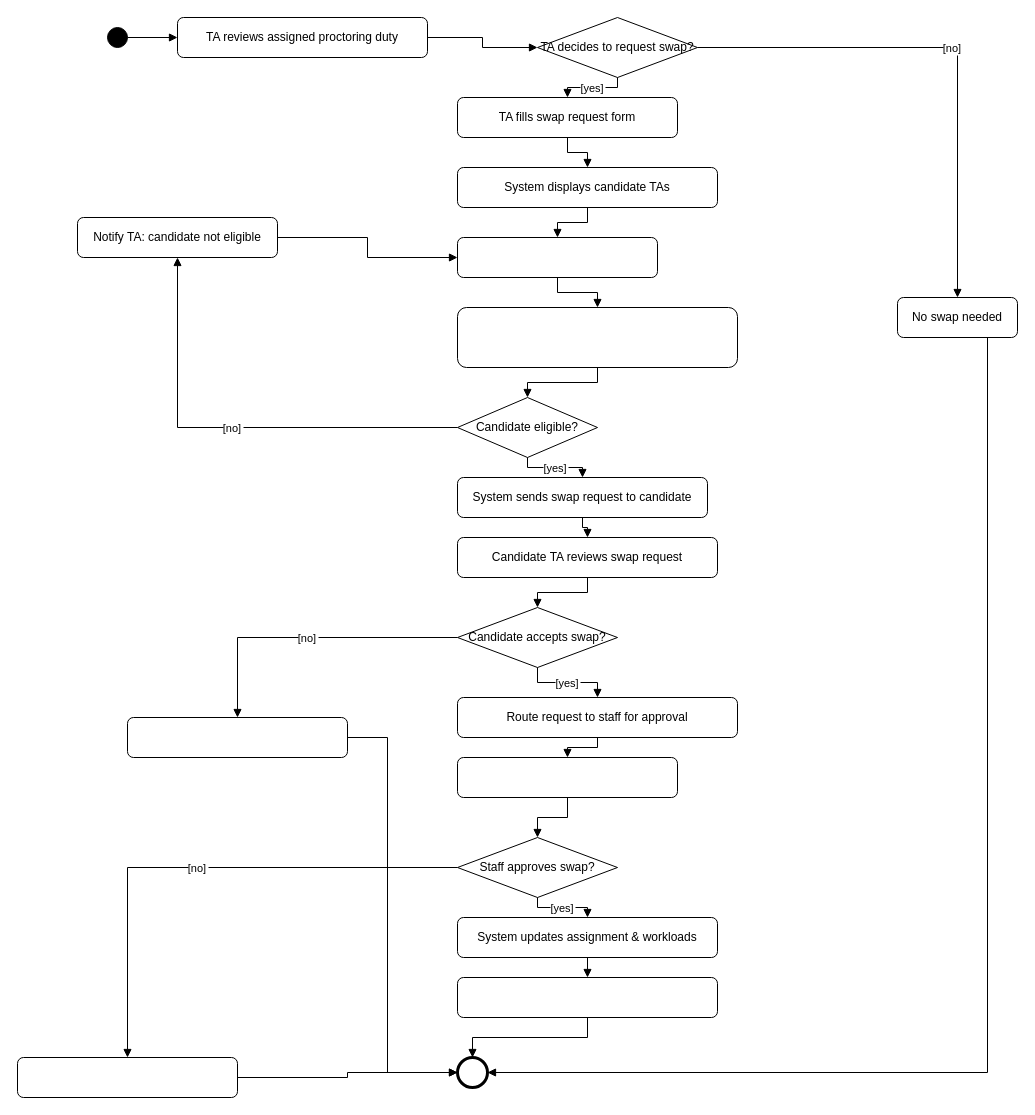
Some shapes in this 1035 by 1115 pixel diagram are drawn without their labels. The centre of each missing label's shape, as x and y in pixels:
"Notify TA: staff rejected swap" goes at pixel 127 1077.
"Notify TA: swap request rejected" goes at pixel 237 737.
"Staff reviews request" goes at pixel 567 777.
"System checks candidate eligibility & conflicts" goes at pixel 597 337.
"System notifies TAs & logs swap" goes at pixel 587 997.
"TA selects candidate" goes at pixel 557 257.
